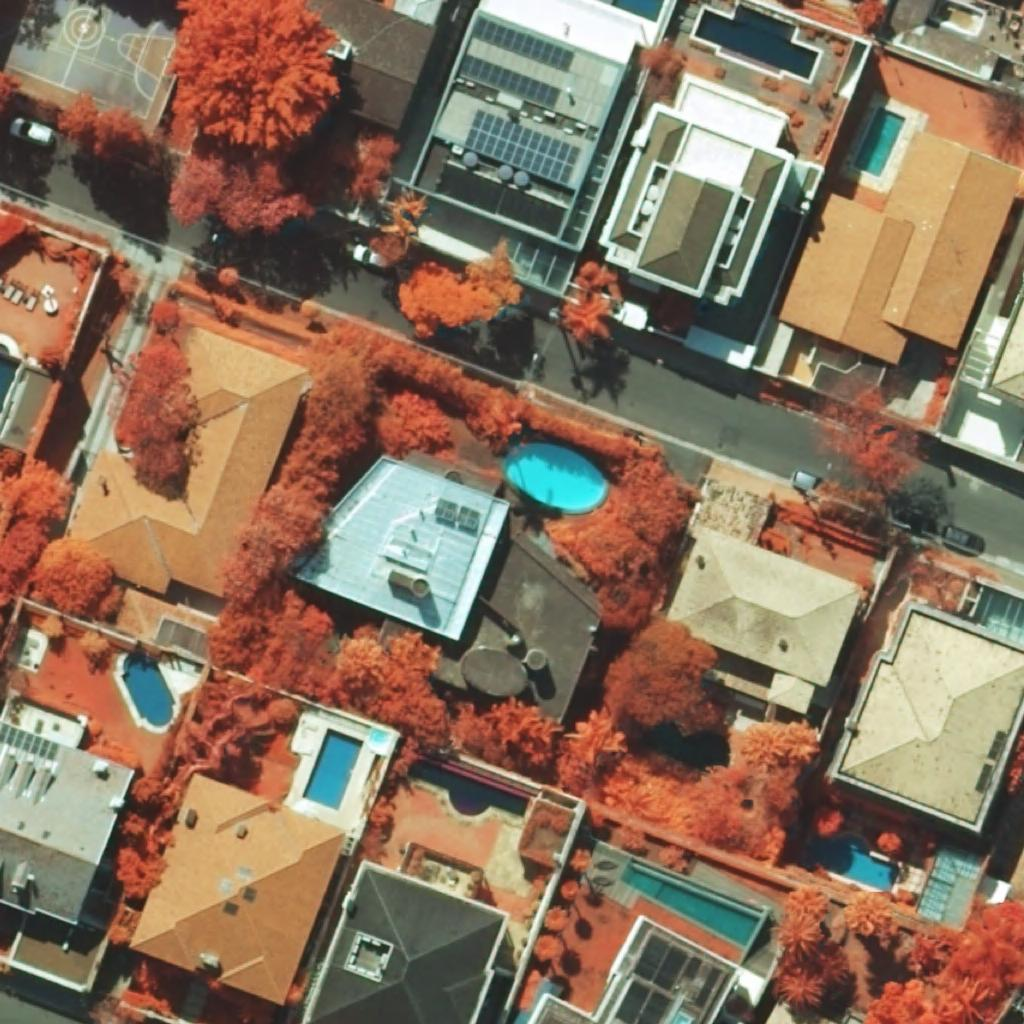pool: (619, 863, 761, 947), (694, 4, 819, 80), (409, 761, 530, 818), (504, 443, 605, 510), (807, 833, 900, 892), (302, 728, 364, 811), (121, 652, 176, 728), (853, 107, 906, 178), (0, 343, 21, 415)
